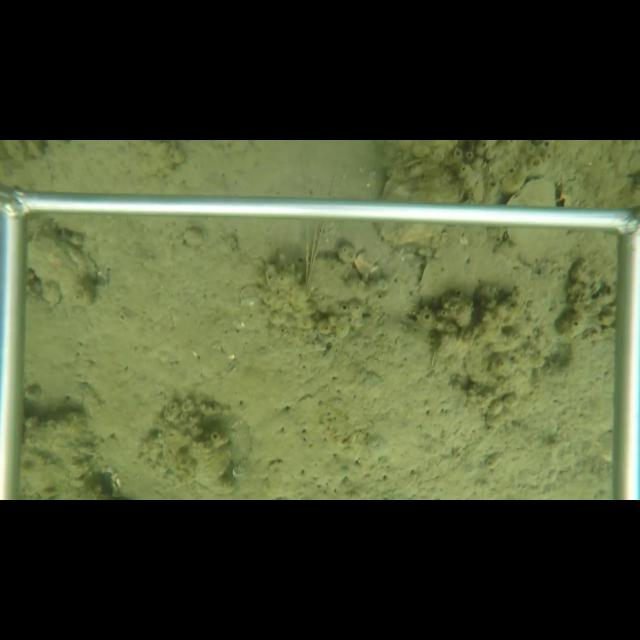Oyster-Closed: (158, 419, 232, 486), (28, 235, 102, 300), (377, 162, 465, 203), (371, 221, 455, 249), (504, 176, 561, 206)
